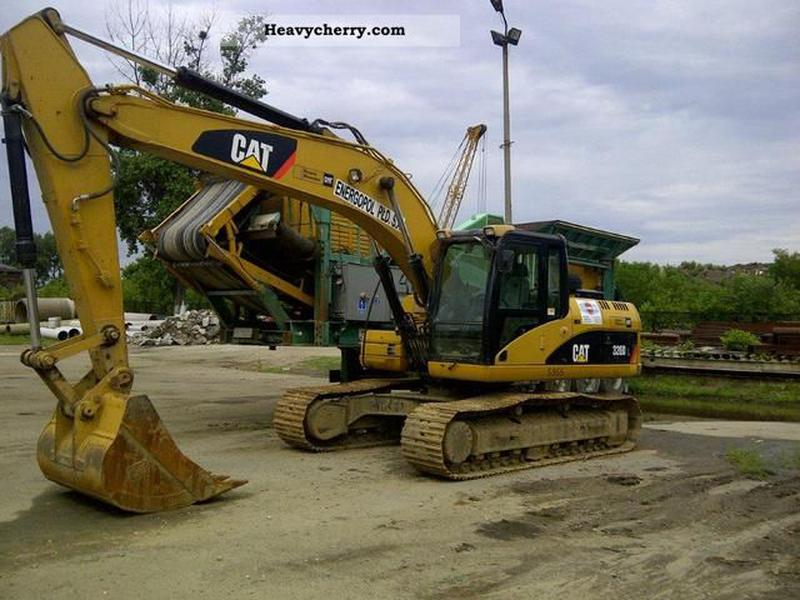shovel: (1, 6, 652, 516)
